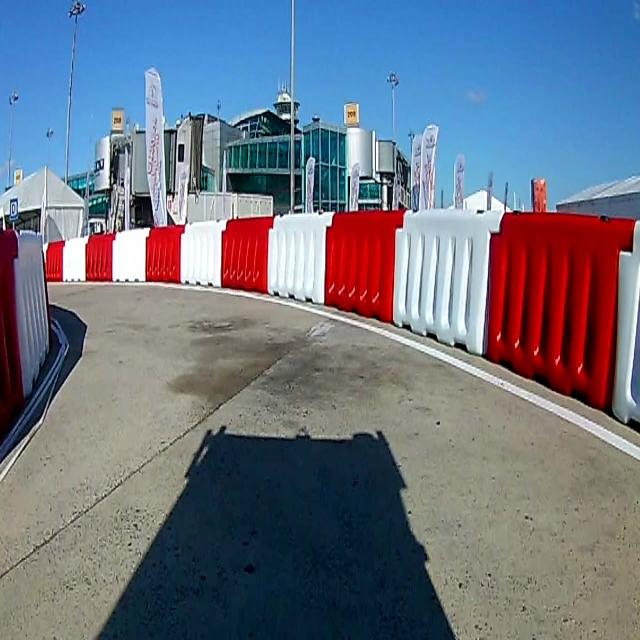durak: (10, 197, 17, 220)
